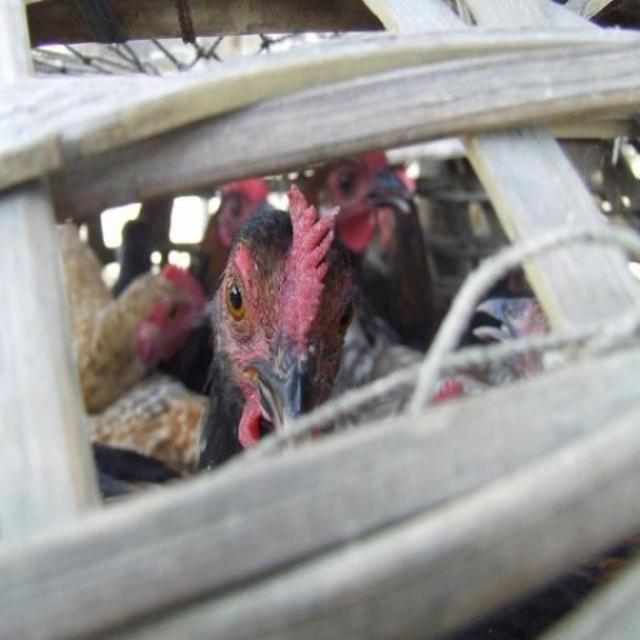Chicken: (198, 183, 356, 447), (298, 145, 418, 440), (51, 215, 217, 415), (179, 173, 283, 387)
